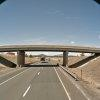Bridge: (6, 28, 90, 70)
